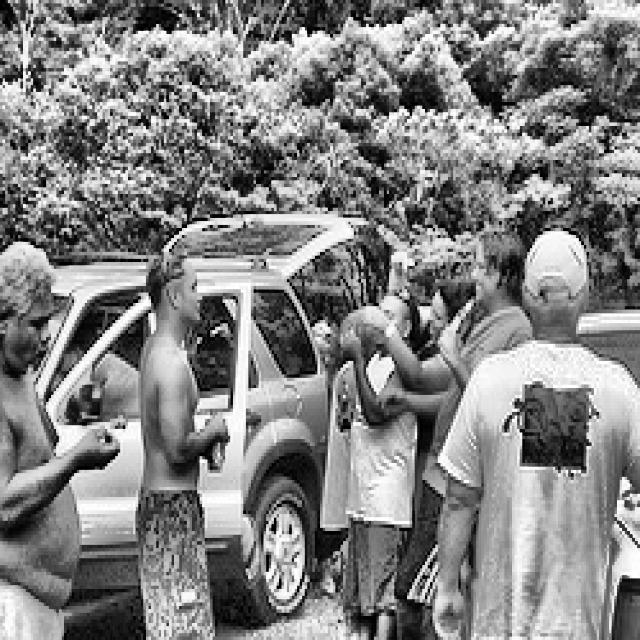light_vehicle: (0, 204, 364, 640)
